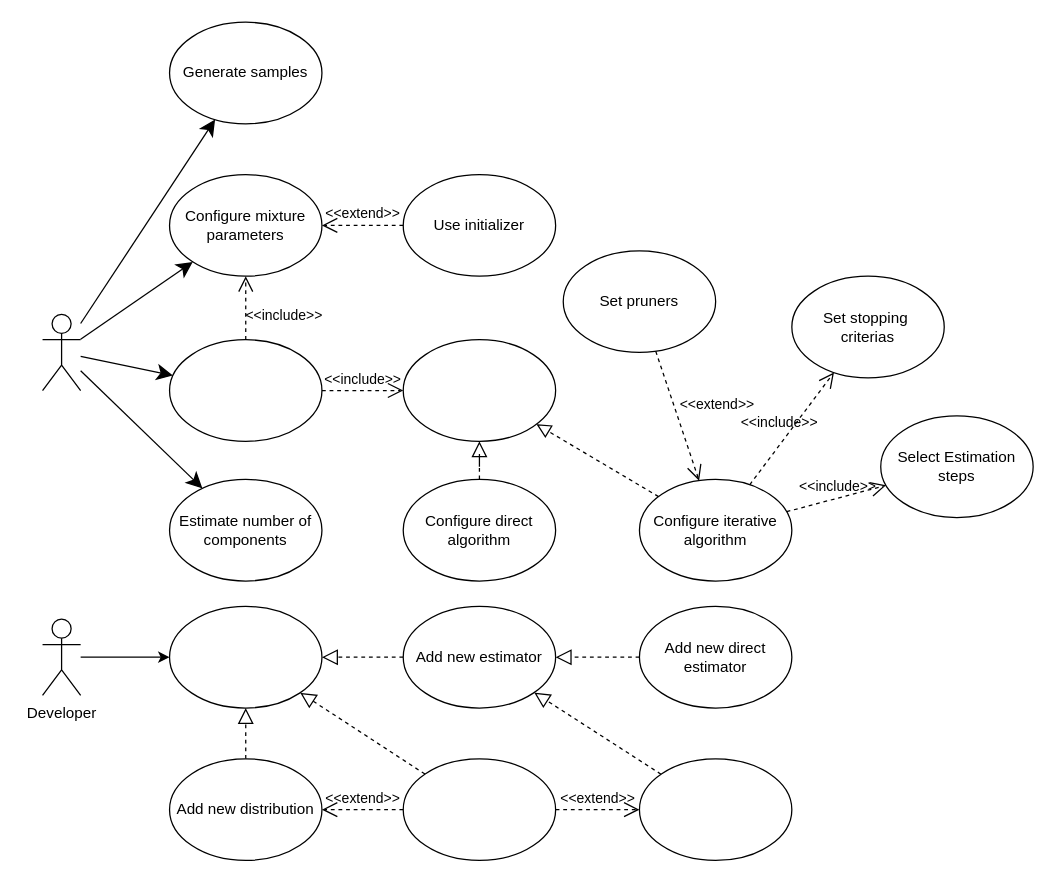
This 1055x883 diagram has some shape labels left out. Here are the shapes that lost their labels. From the top down, the centre of each, then its label:
pixel 61 352: Researcher
pixel 245 389: Run algorithm
pixel 479 389: Configure algorithm
pixel 245 656: Extend library
pixel 479 809: Add new estimation strategy
pixel 715 809: Add new steps for pipeline
